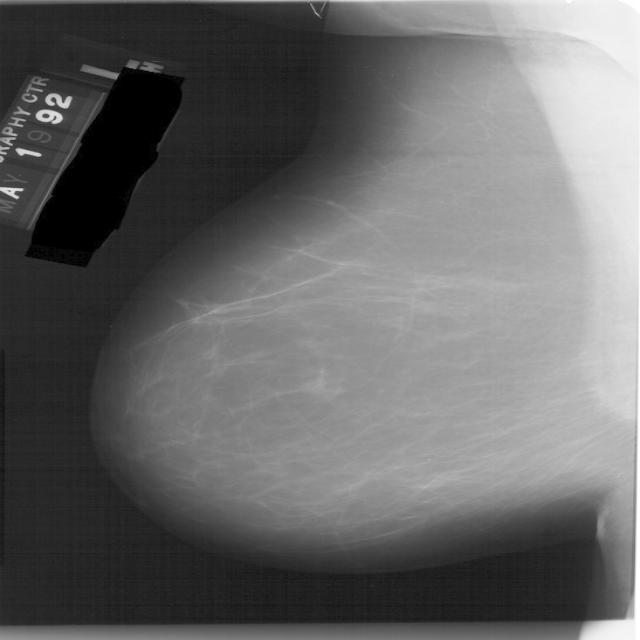tumour: (297, 372, 341, 402)
